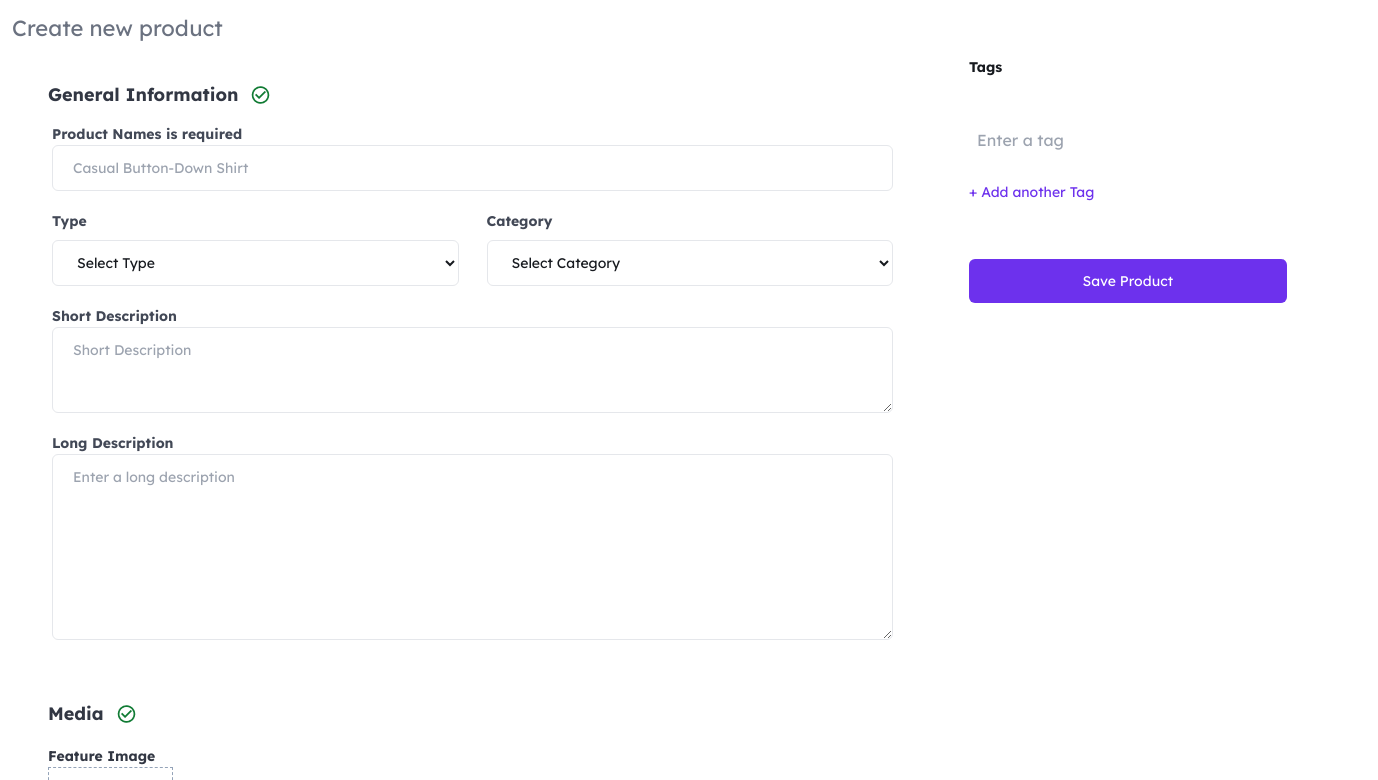
Test: AddProducts › adds and removes tags
Type "tag1" into the field labelled "Tags".
click(1128, 140); type("tag1")  # box [969,118,1287,162]
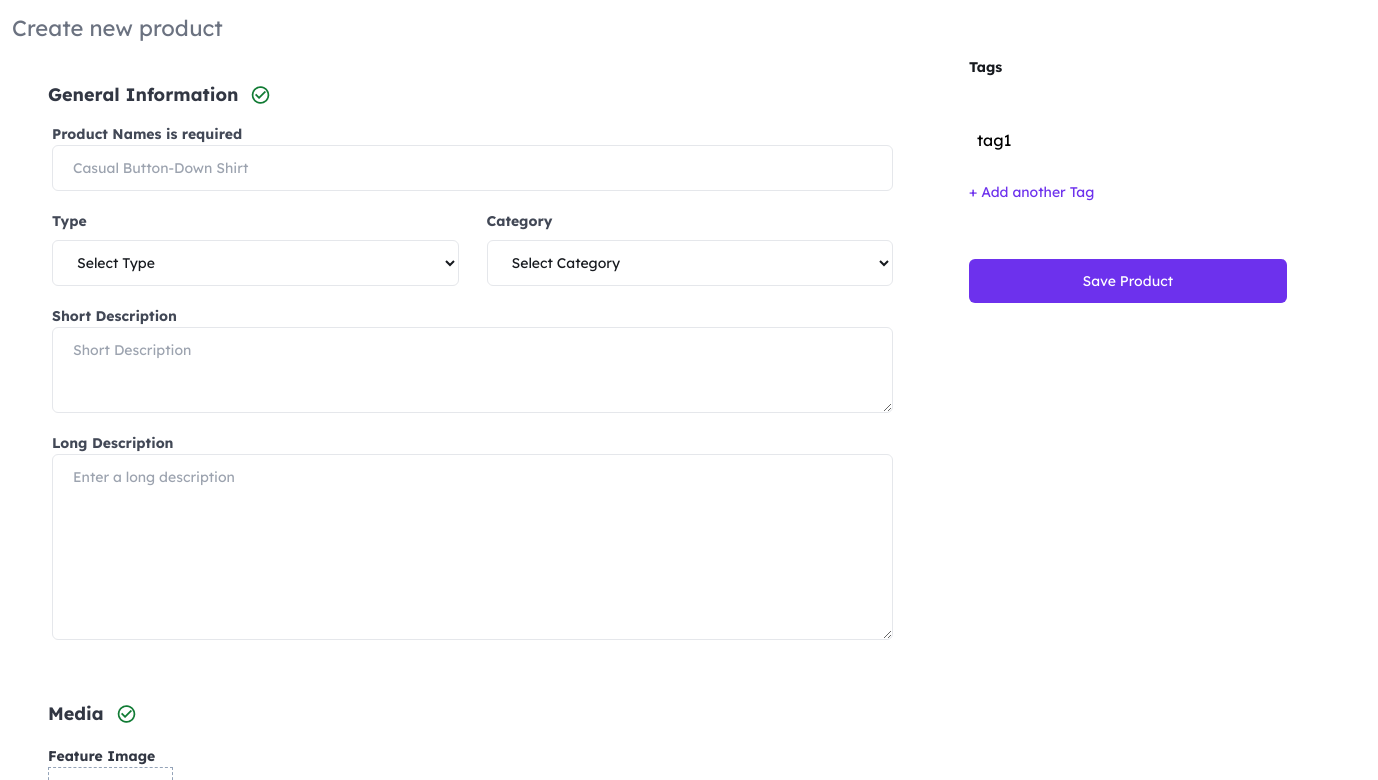
Click the button "+ Add another Tag".
click(1032, 192)  # box [969,182,1287,203]
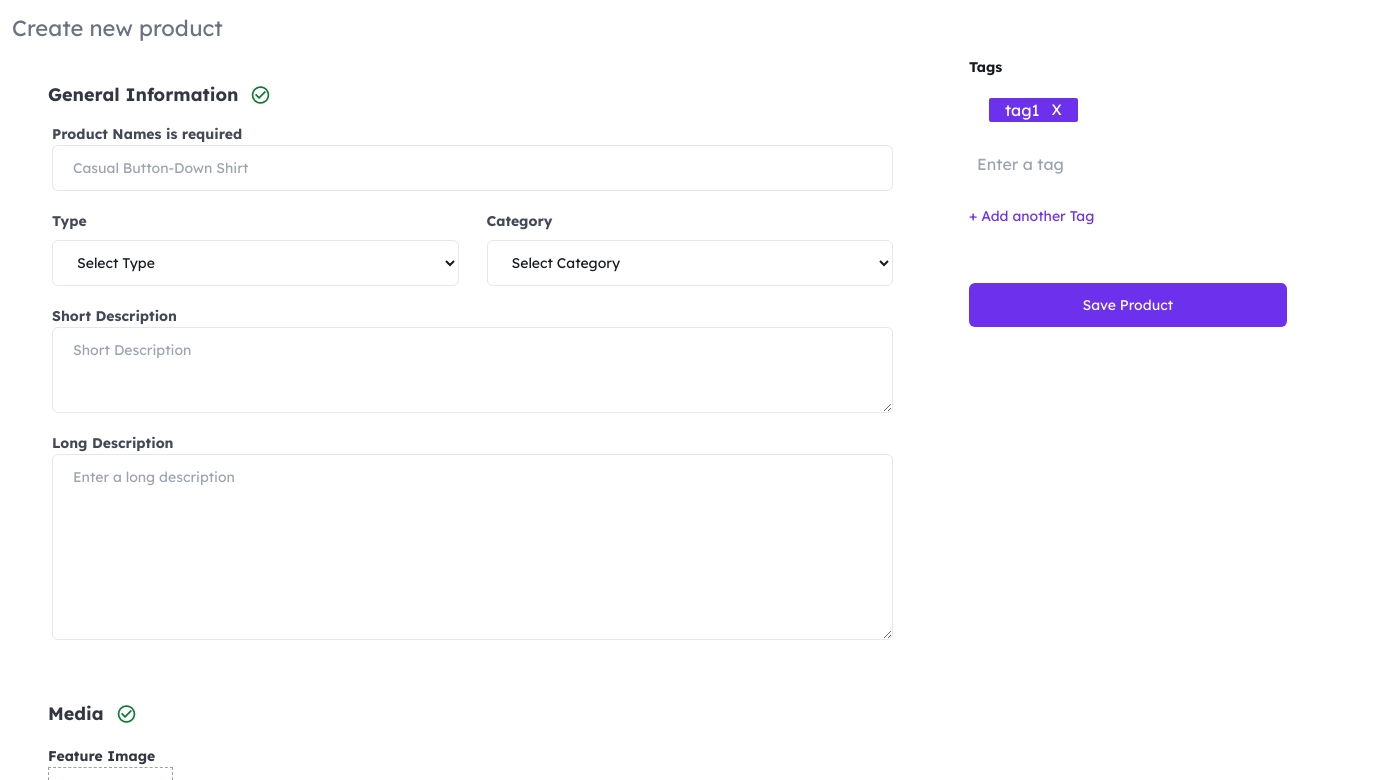
Check: the text "tag1" is shown, box [1005,100,1040,120]
Click the button "X".
click(1057, 110)  # box [1052,99,1062,121]
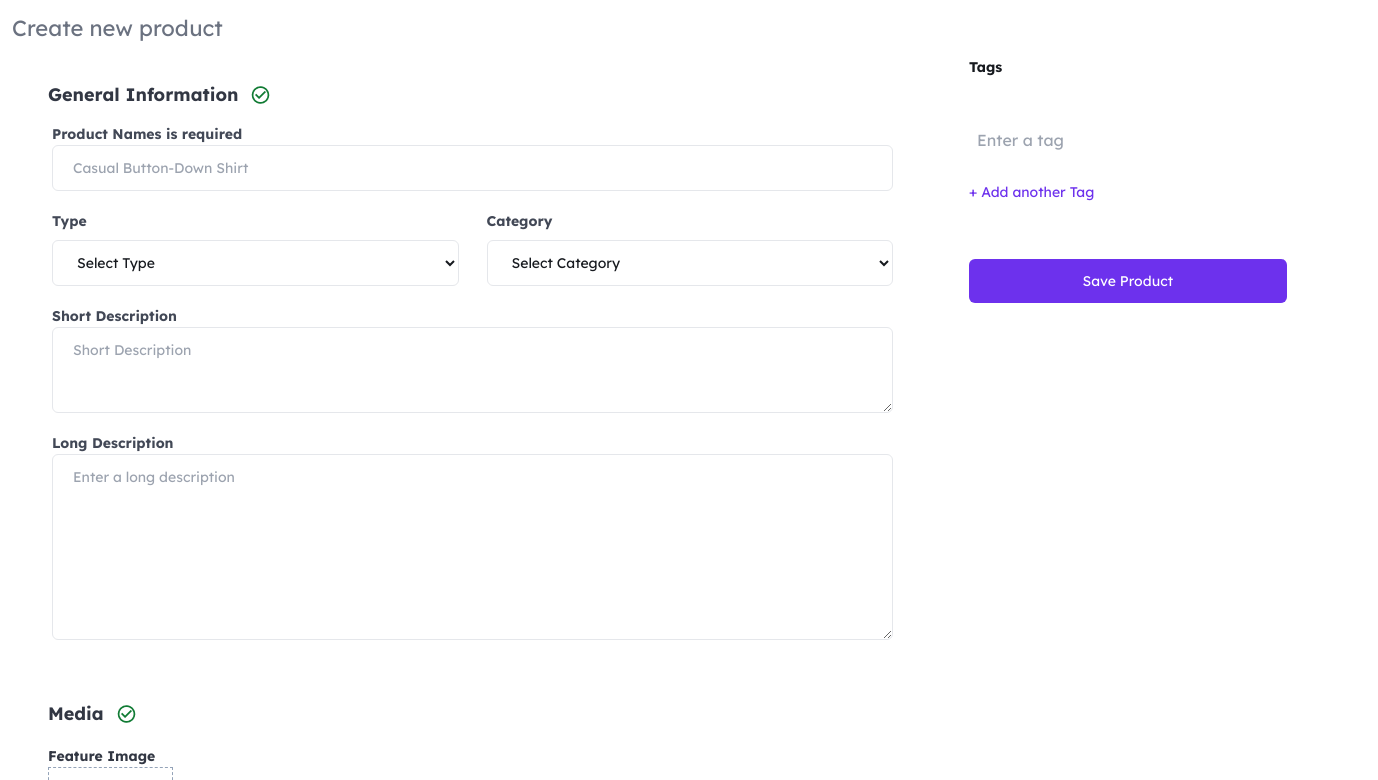
Check: the text "tag1" is gone
